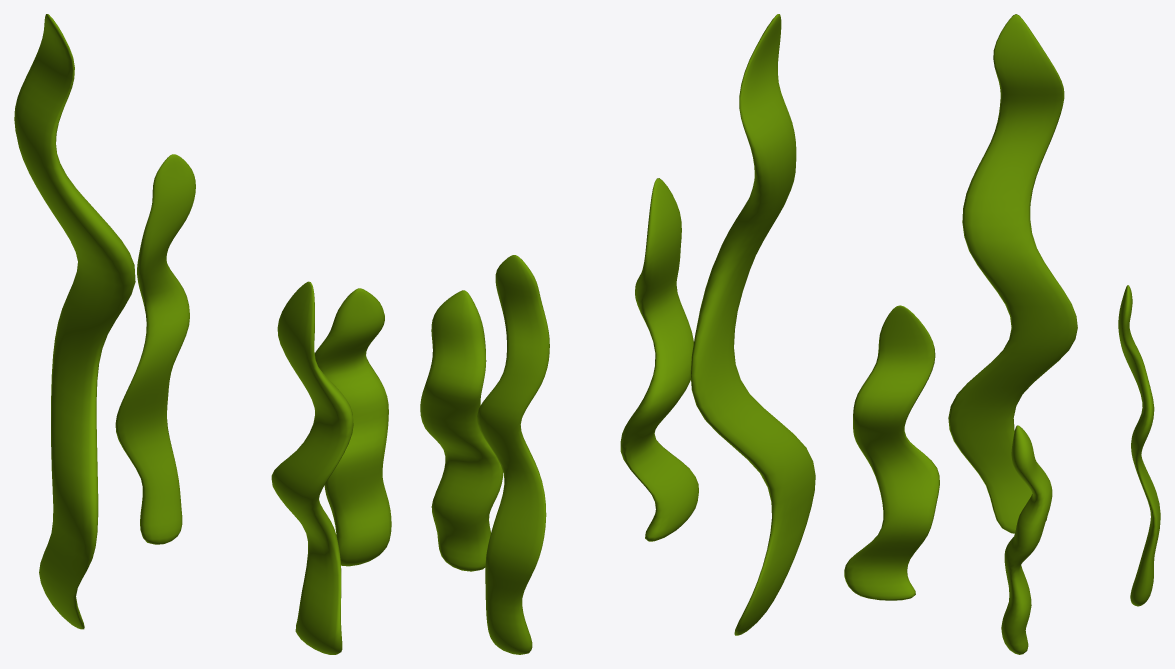
File: seaweed.fbx
3 views of the same model, side by side, from view 1: azimuth 30°, elevation 25°; view 2: azimuth 150°, elevation 25°; view 3: azimuth 270°, elevation 25° (orthographic). The views are drawn at different scales.
Visible parts, largest first — view 1: pCube5, pCube3, pCube4, pCube2; view 2: pCube5, pCube3, pCube2, pCube4; view 3: pCube5, pCube4, pCube2, pCube3.
Part boxes in pixels (x1,y1,x2,y2): pCube5: (14,14,135,629); pCube3: (115,154,195,544); pCube4: (271,281,353,654); pCube2: (314,288,391,566); pCube5: (690,14,815,635); pCube3: (477,255,549,654); pCube2: (420,290,503,571); pCube4: (620,178,698,541); pCube5: (948,14,1077,533); pCube4: (844,305,939,600); pCube2: (1001,425,1052,654); pCube3: (1118,285,1160,606).
Bounding box in the file's own units: 5.56 × 9.29 × 5.18.
